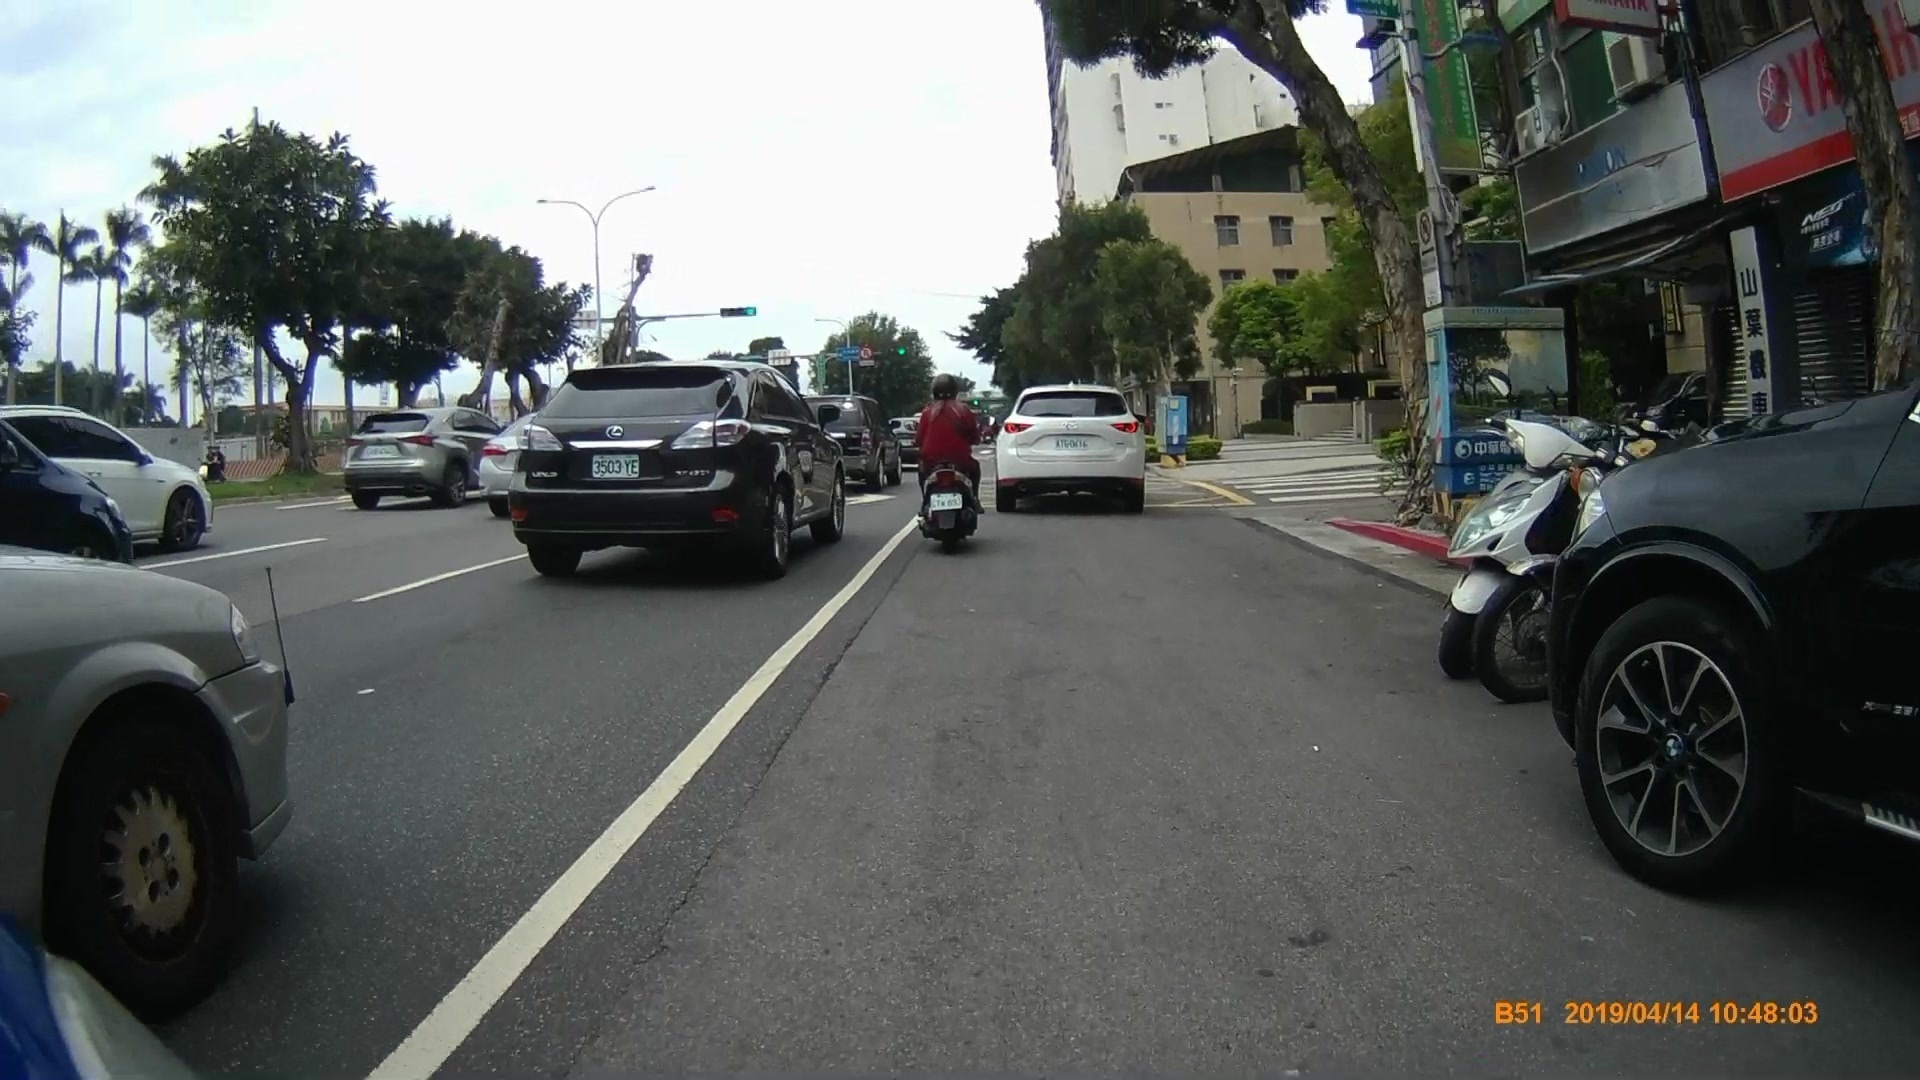License_plate: (591, 448, 645, 482), (928, 491, 962, 514), (1052, 438, 1090, 456)
